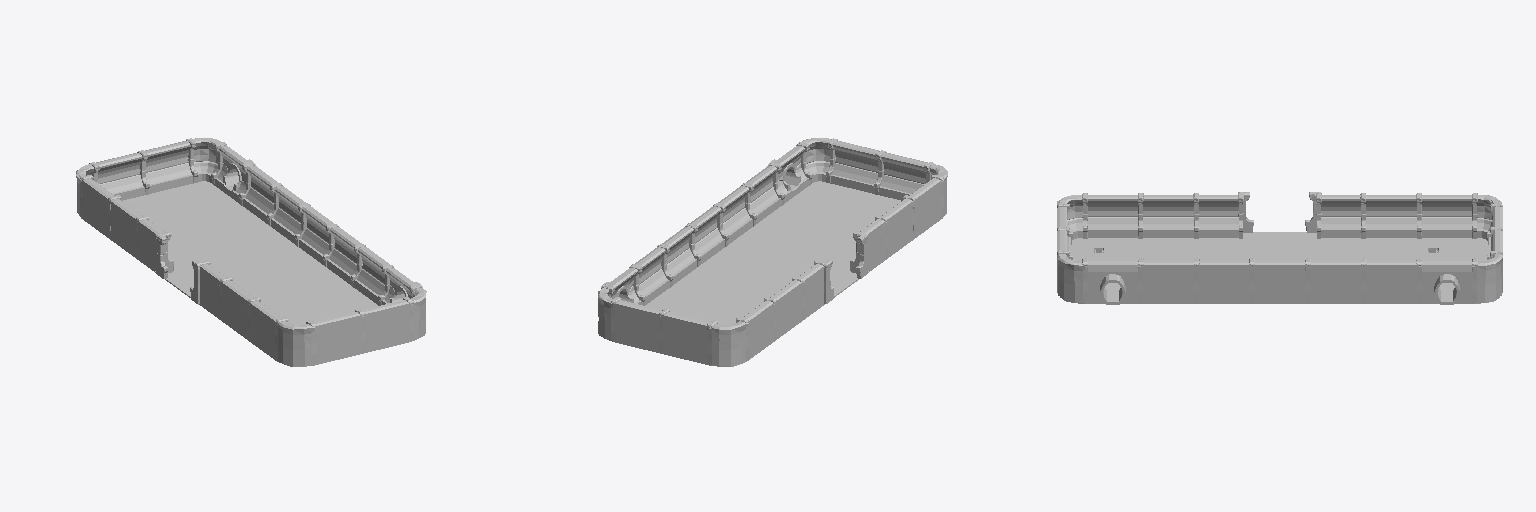
The model's file is DungeonRoom_06.obj.
The picture shows the model from 3 angles: view 1: azimuth 30°, elevation 25°; view 2: azimuth 150°, elevation 25°; view 3: azimuth 270°, elevation 25°; orthographic projection.
Parts seen in each view (by area): view 1: DungeonRoom_06; view 2: DungeonRoom_06; view 3: DungeonRoom_06.
Part boxes in pixels (x1,y1,x2,y2): DungeonRoom_06: (76, 138, 426, 366); DungeonRoom_06: (598, 138, 947, 366); DungeonRoom_06: (1057, 192, 1502, 304).
Size of the model in its own units: 26.45 by 8.22 by 64.17.